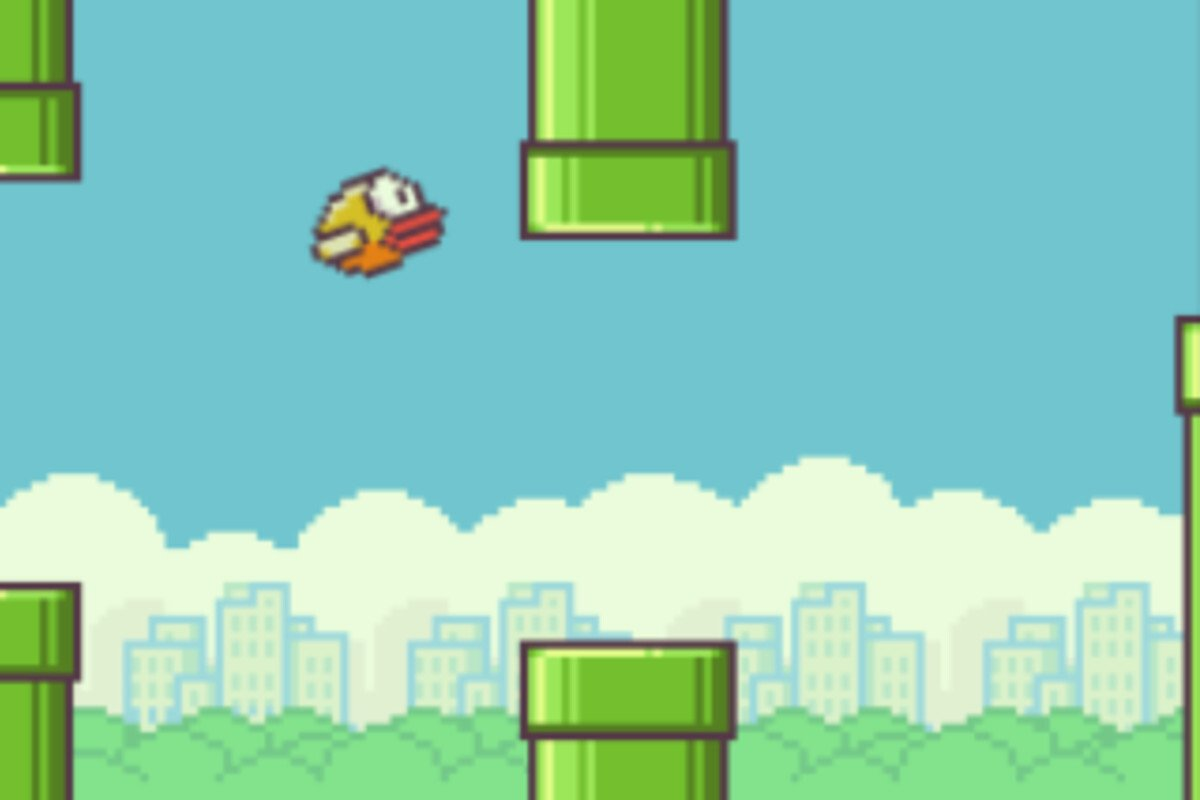flappybird: (301, 159, 453, 279)
green-pipe-down: (516, 646, 747, 800), (3, 584, 84, 800)
green-pipe-up: (527, 2, 740, 240), (1, 1, 85, 184)
